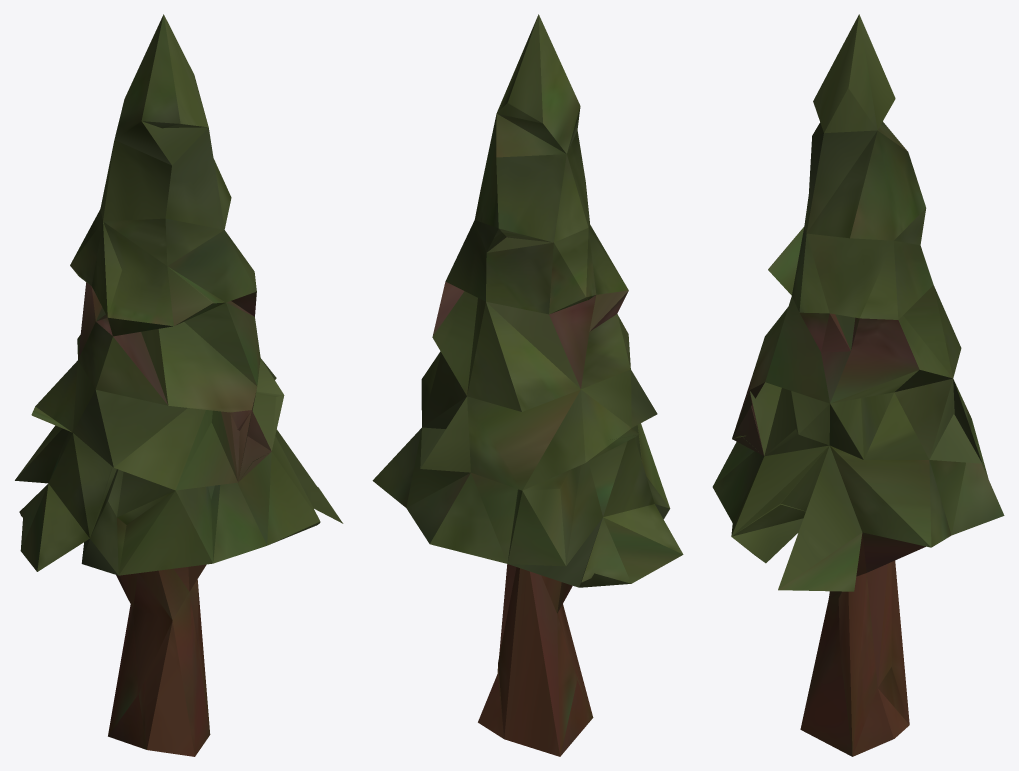
Rendered from bg_forest_pine_2_lod1.glb.
The picture shows the model from 3 angles, left to right: view 1: azimuth 30°, elevation 25°; view 2: azimuth 150°, elevation 25°; view 3: azimuth 270°, elevation 25°; orthographic projection.
Visible parts, largest first — view 1: sway, body; view 2: sway, body; view 3: sway, body.
Boxes of the visible parts, bbox=[...] form: sway: bbox=[15, 14, 343, 575]; body: bbox=[78, 282, 271, 756]; sway: bbox=[372, 14, 683, 587]; body: bbox=[432, 281, 628, 756]; sway: bbox=[712, 14, 1004, 591]; body: bbox=[732, 312, 925, 756].
Size of the model in its own units: 3.25 by 7.84 by 2.87.
1 material, 1 textured.
